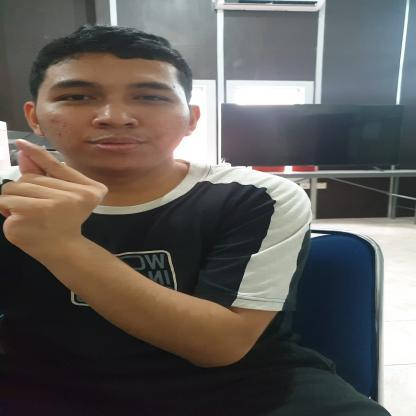R: (0, 141, 111, 260)
